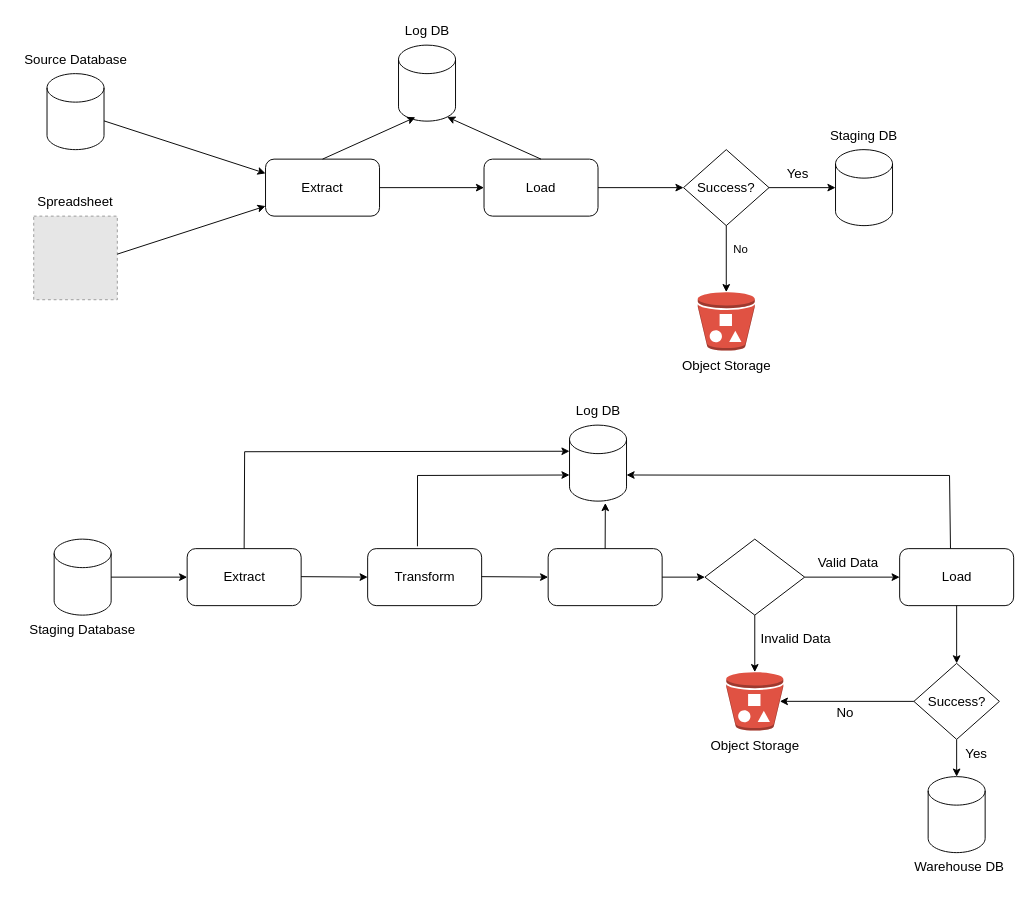
Some shapes in this 1033 by 897 pixel diagram are drawn without their labels. Grey dashed boxes stand in for pictures. The centre of each missing label's shape, as x and y in pixels:
"Data Valid?" goes at point (754, 576).
"Validation" goes at point (604, 577).
